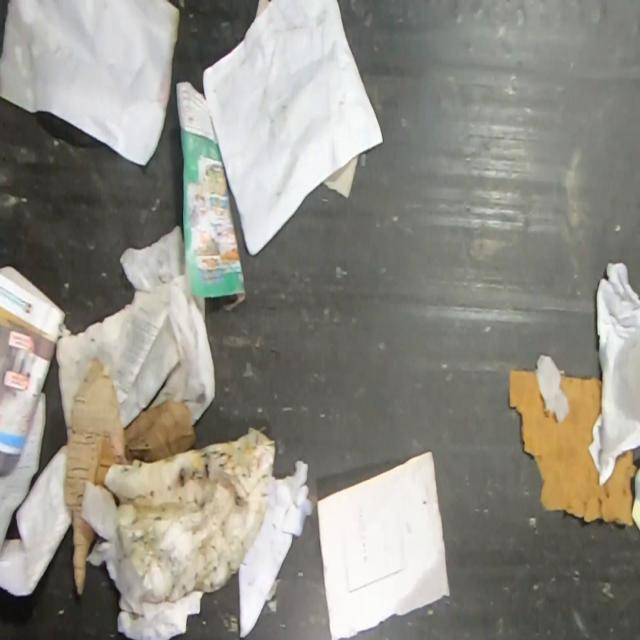cardboard: (81, 428, 276, 618), (508, 370, 638, 527), (64, 355, 130, 595), (123, 399, 196, 463)
